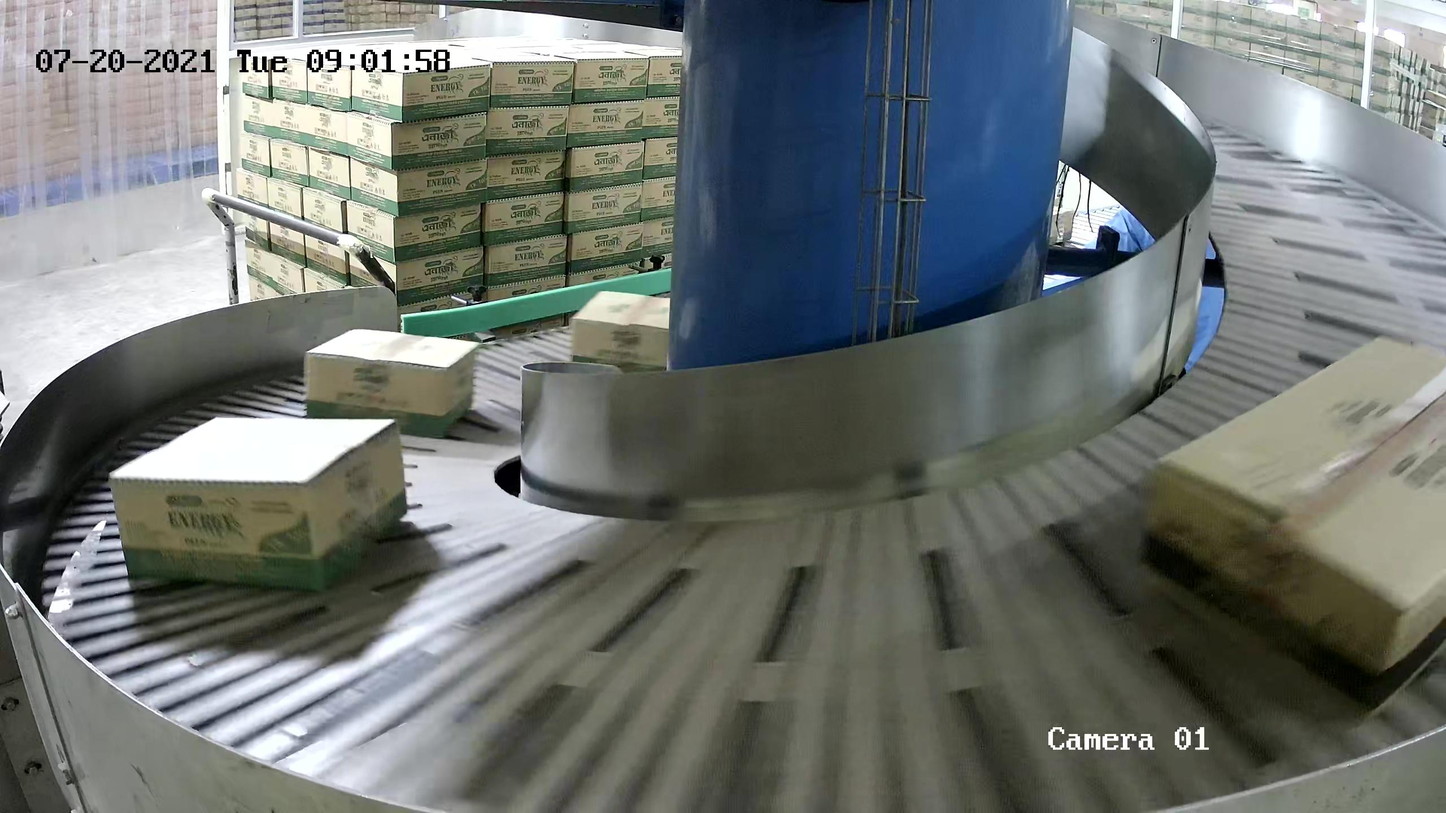Box: (1141, 336, 1446, 718), (107, 416, 408, 593), (303, 328, 480, 438), (572, 290, 684, 381)
